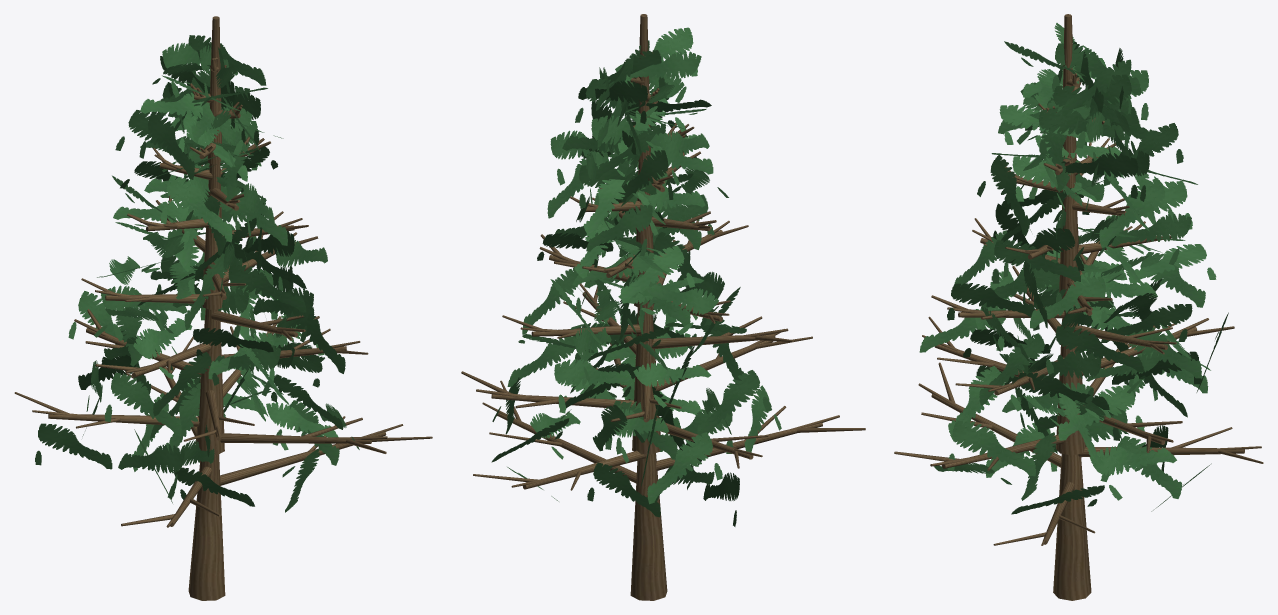
The picture shows the model from 3 angles, left to right: view 1: azimuth 30°, elevation 25°; view 2: azimuth 150°, elevation 25°; view 3: azimuth 270°, elevation 25°; orthographic projection.
Parts seen in each view (by area): view 1: pine-needle, pine-bark; view 2: pine-needle, pine-bark; view 3: pine-needle, pine-bark.
Part boxes in pixels (x1,y1,x2,y2): pine-needle: (35, 35, 359, 512); pine-bark: (14, 16, 432, 600); pine-needle: (491, 27, 781, 526); pine-bark: (461, 14, 865, 600); pine-needle: (919, 23, 1228, 514); pine-bark: (894, 14, 1263, 600).
Bounding box in the file's own units: 6.16 × 10.01 × 5.77.
Materials: 2 (2 with a texture image).
